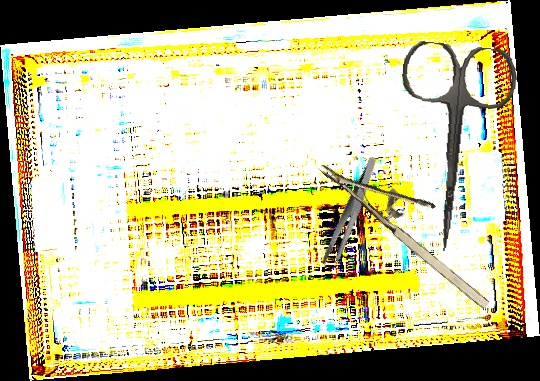Dressing Forceps: (300, 156, 402, 270)
Iris Scissors: (384, 39, 521, 257)
Needle Holder: (317, 130, 514, 315)
